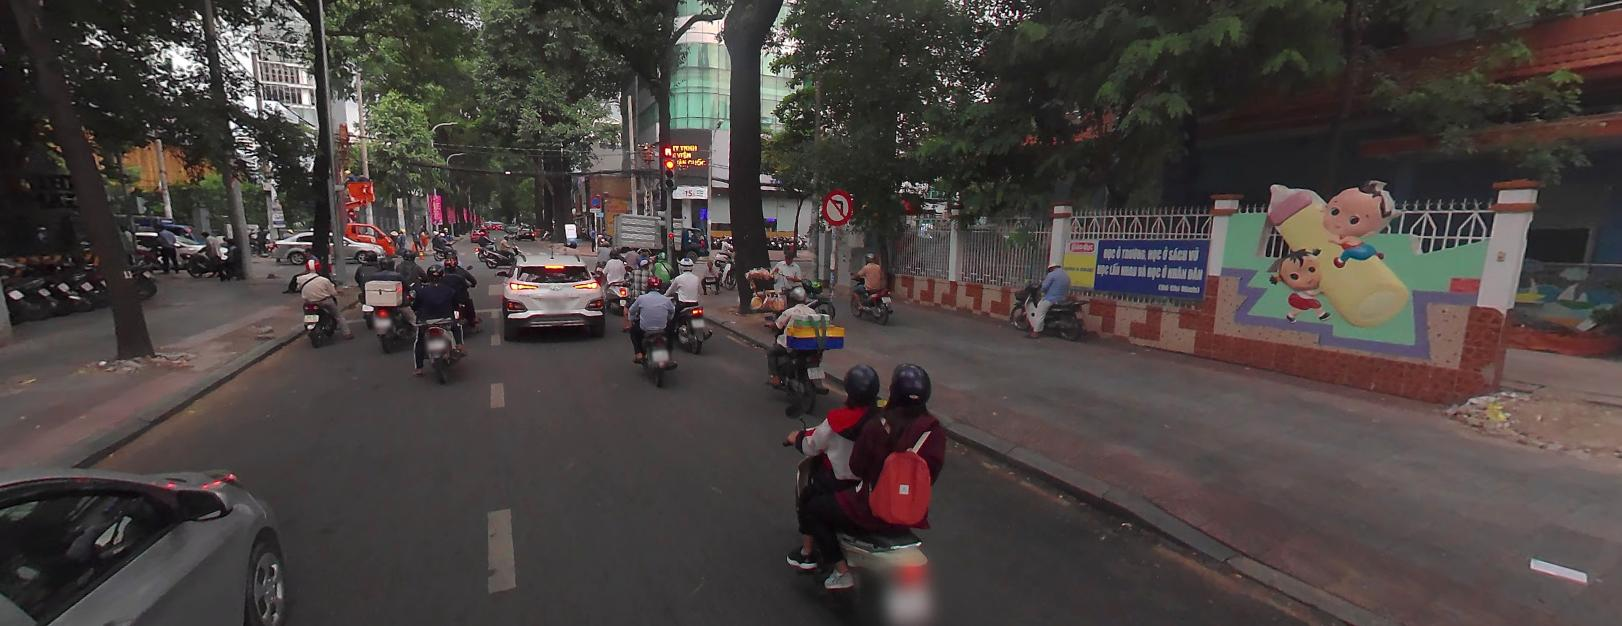Cam dung va do: (589, 193, 600, 206)
Cam re: (822, 185, 853, 226)
